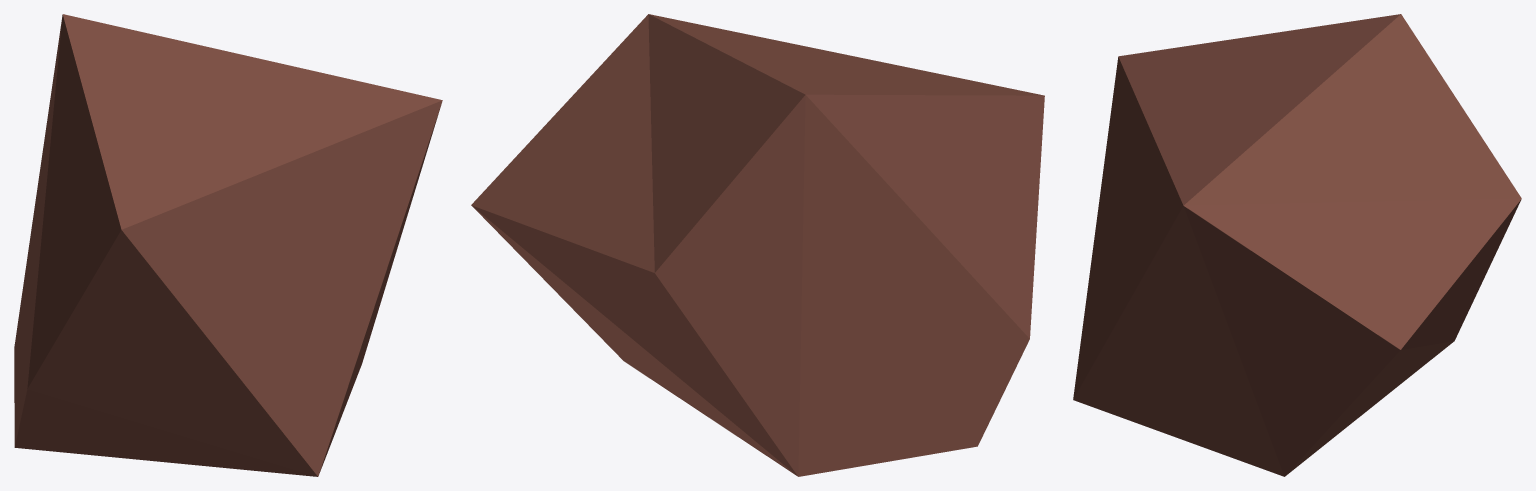
File: Rock-C09.fbx
3 views of the same model, side by side, from view 1: azimuth 30°, elevation 25°; view 2: azimuth 150°, elevation 25°; view 3: azimuth 270°, elevation 25° (orthographic). The views are drawn at different scales.
Parts seen in each view (by area): view 1: Rock-C09; view 2: Rock-C09; view 3: Rock-C09.
Part boxes in pixels (x1=…): Rock-C09: x1=14, y1=14, x2=442, y2=476; Rock-C09: x1=471, y1=14, x2=1044, y2=476; Rock-C09: x1=1073, y1=14, x2=1521, y2=476.
Size of the model in its own units: 33.82 by 25.79 by 29.91.
